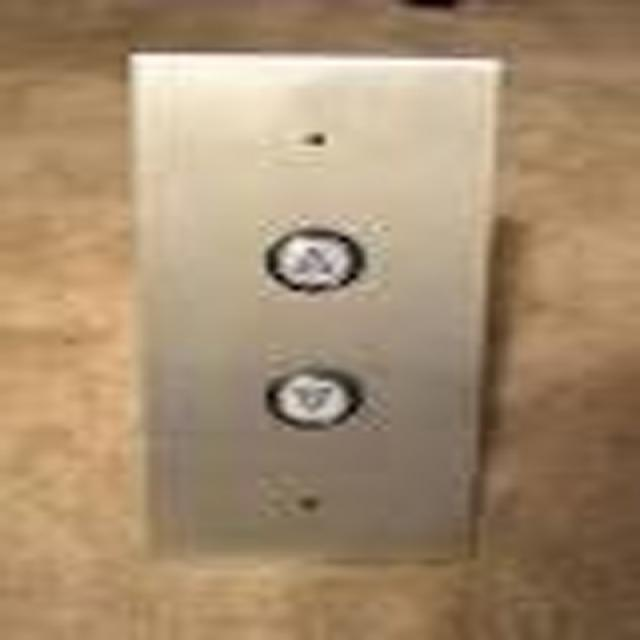down: (262, 369, 358, 429)
up: (265, 225, 363, 292)
